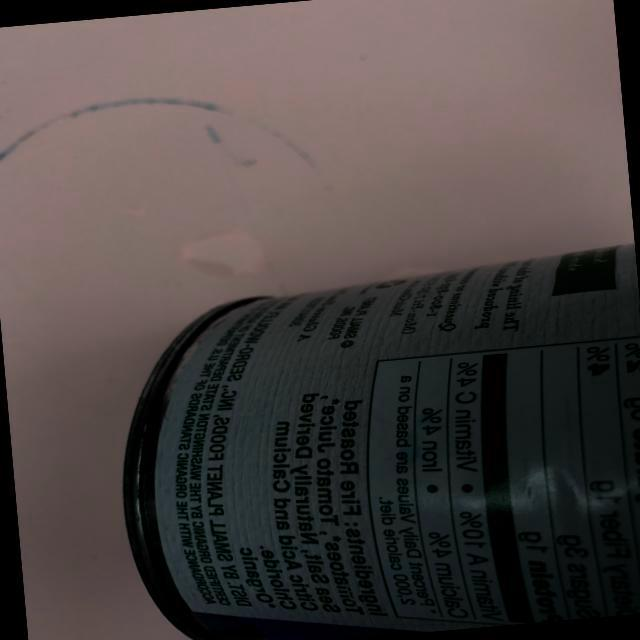metal: (88, 232, 640, 640)
